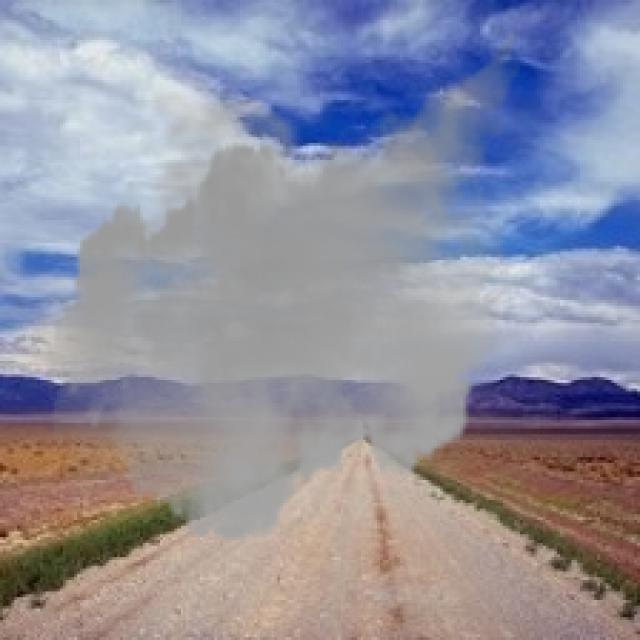smoke: (17, 0, 532, 557)
